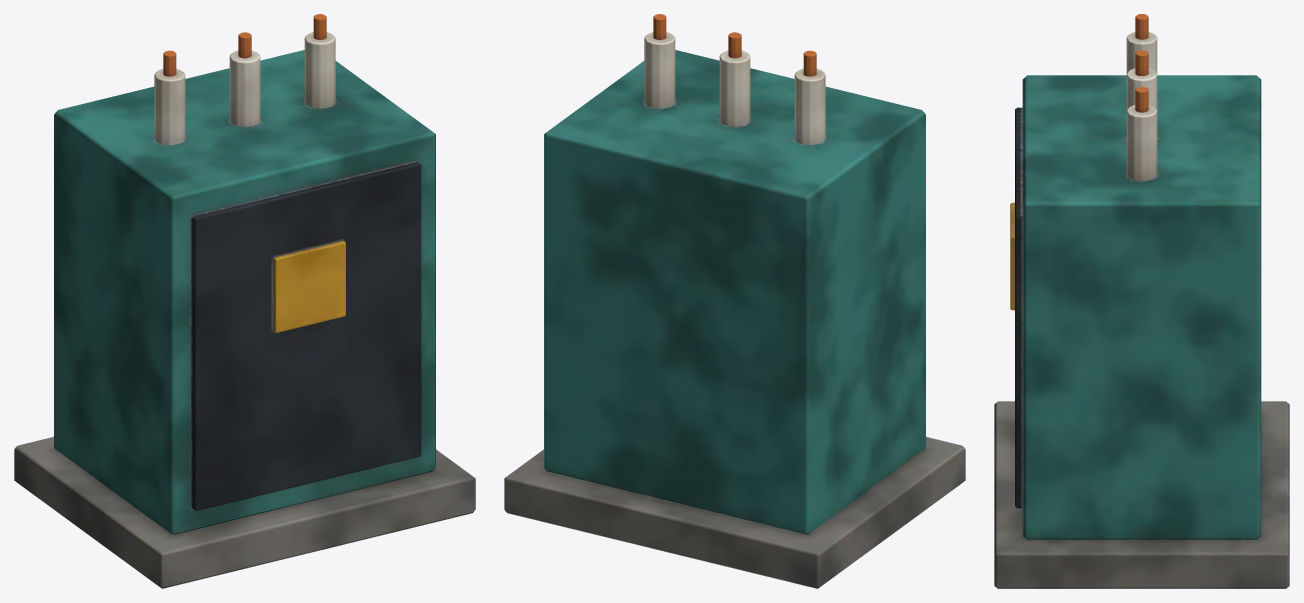
Rendered from transformer_box.glb.
The picture shows the model from 3 angles, left to right: view 1: azimuth 30°, elevation 25°; view 2: azimuth 150°, elevation 25°; view 3: azimuth 270°, elevation 25°; orthographic projection.
Parts seen in each view (by area): view 1: TransformerBox; view 2: TransformerBox; view 3: TransformerBox.
Part boxes in pixels (<box>): TransformerBox: <box>14,14,475,588</box>; TransformerBox: <box>504,14,965,588</box>; TransformerBox: <box>994,14,1289,588</box>.
Size of the model in its own units: 1.6 by 2.24 by 1.3.
Materials: 1 (1 with a texture image).
